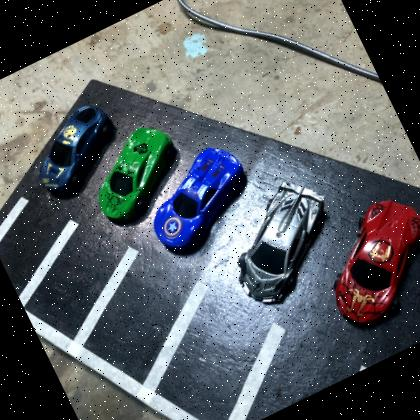Car: (206, 166, 358, 312), (303, 186, 420, 332), (132, 137, 264, 255), (76, 116, 196, 229), (19, 96, 129, 198)
